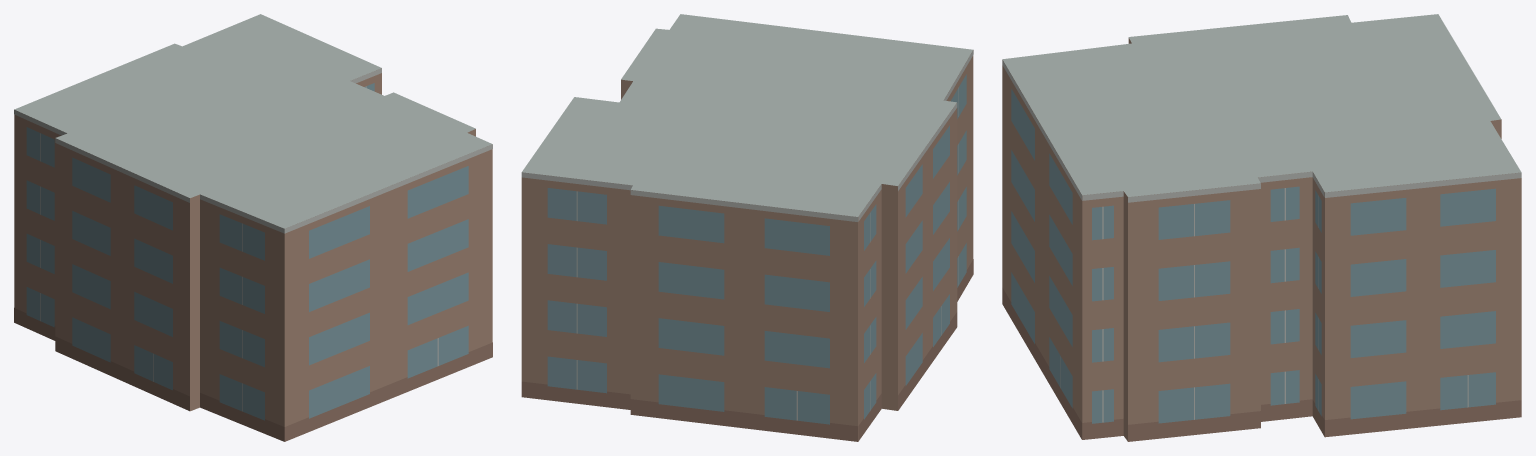
File: survey-upis-32812546.glb
3 views of the same model, side by side, from view 1: azimuth 30°, elevation 25°; view 2: azimuth 150°, elevation 25°; view 3: azimuth 270°, elevation 25° (orthographic). The views are drawn at different scales.
Visible parts, largest first — view 1: survey-upis-32812546.tmp; view 2: survey-upis-32812546.tmp; view 3: survey-upis-32812546.tmp.
Part boxes in pixels (x1,y1,x2,y2): survey-upis-32812546.tmp: [14, 14, 492, 441]; survey-upis-32812546.tmp: [521, 14, 973, 441]; survey-upis-32812546.tmp: [1002, 14, 1521, 441].
Bounding box in the file's own units: 17.1 × 10.65 × 20.49.
